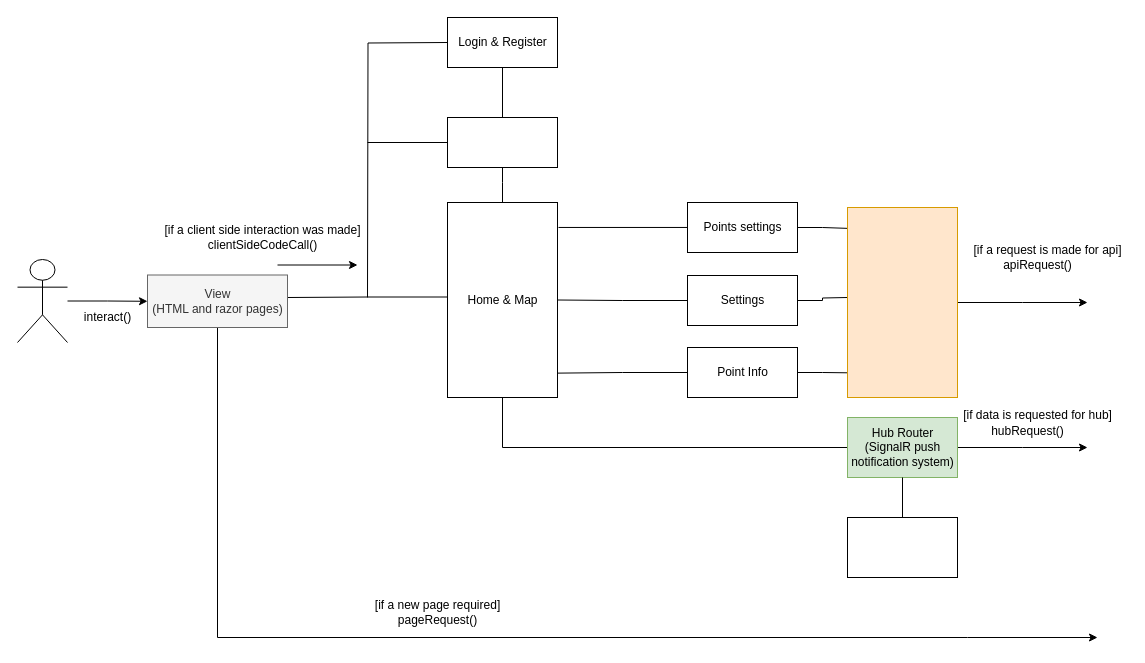
This 1145x663 diagram has some shape labels left out. Here are the shapes that lost their labels. From the top down, the centre of each, then its label:
At (502,142): "Menu & Navigation".
At (42,300): "User".
At (902,302): "Api Router".
At (902,547): "Points cache".
